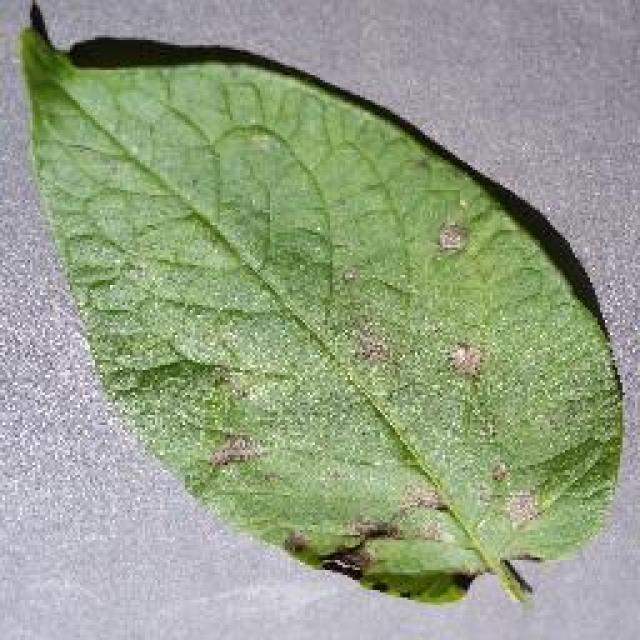early_blight: (12, 0, 628, 610)
